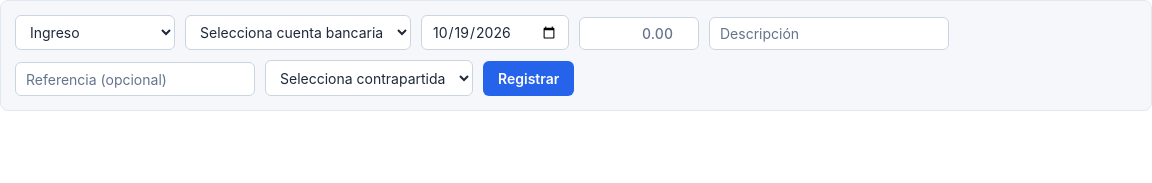
Test: FormularioMovimiento › muestra el error del servidor y no avisa como registrado
The image size is (1152, 183).
Select "BAC 123" in the dropdown named "Cuenta bancaria": (298, 33) [185,15,411,50]
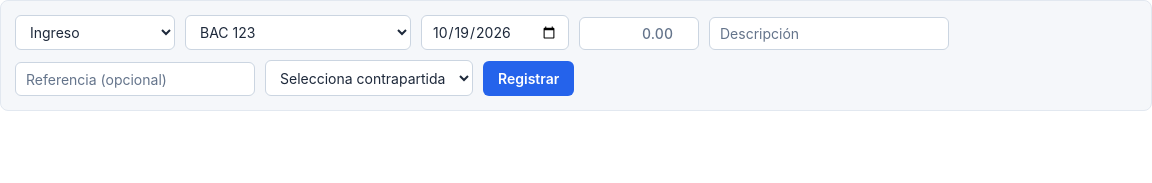
In the date field named "Fecha del movimiento": (495, 33) [421,15,569,50], type "2025-03-01"
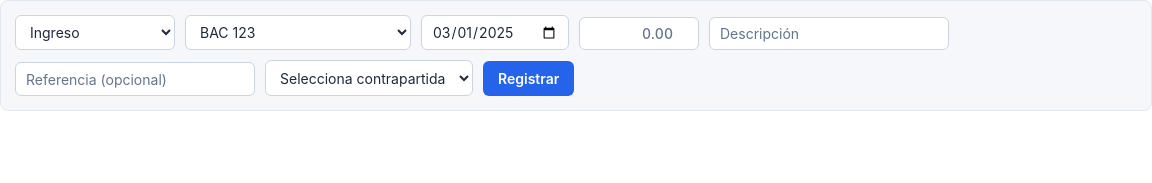
In the number field named "Monto del movimiento": (639, 34) [579,17,699,50], type "200"
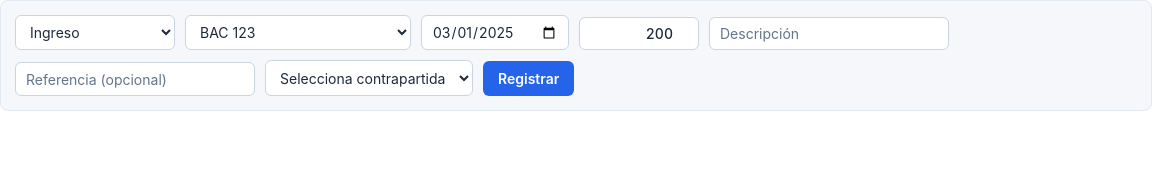
In the field named "Descripción del movimiento": (829, 34) [709,17,949,50], type " Comisión "
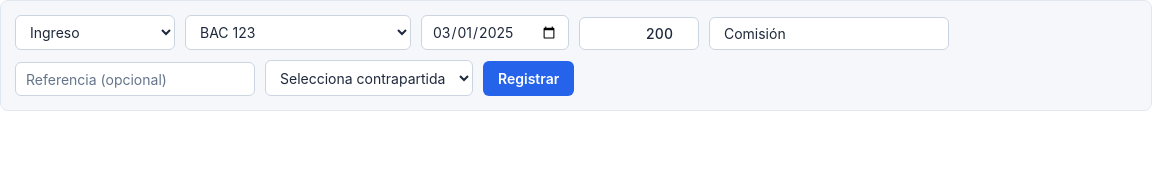
Select "4201 - Intereses" in the dropdown named "Cuenta de contrapartida": (369, 78) [265,60,473,96]
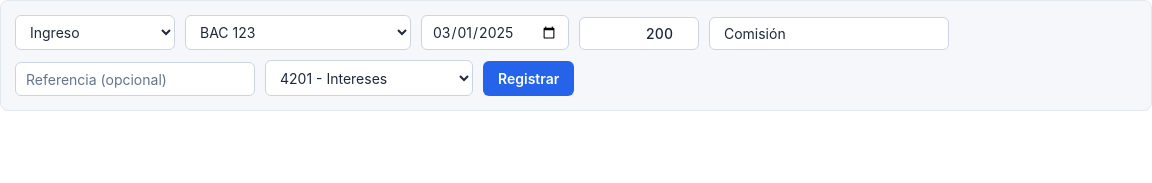
Click the button "Registrar": (529, 78) [483,61,574,96]
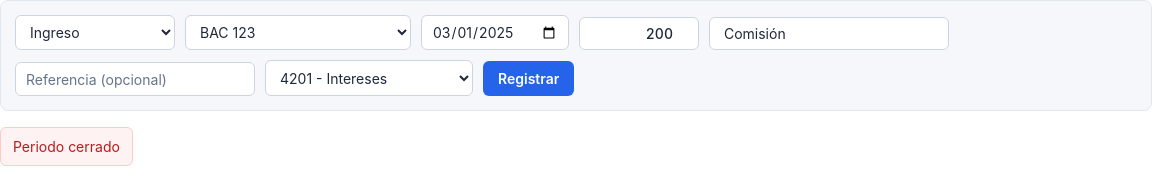
Now the text "Periodo cerrado" is shown, box [0,127,133,166]
